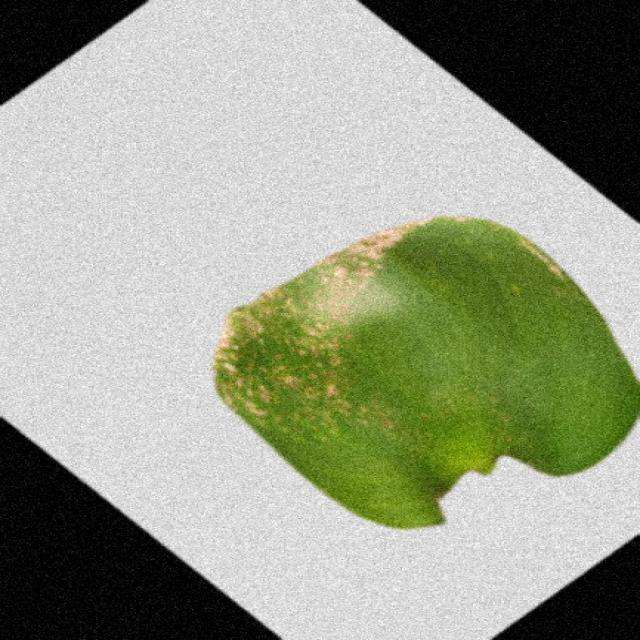daun berpenyakit bercak: (213, 216, 638, 528)
